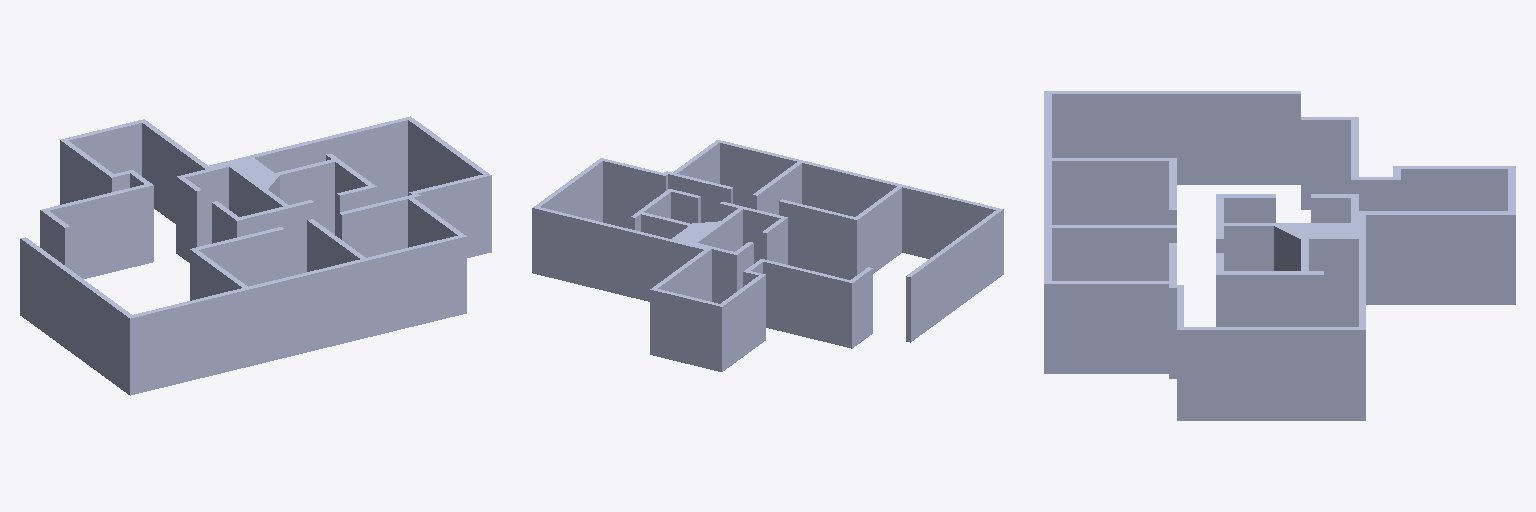
The robot description file, URDF, robot "willie_home":
<robot
  name="willie_home">
  <link
    name="willie_home">
    <inertial>
      <origin
        xyz="4.478788989465 -1.05169237906254 1"
        rpy="0 0 0" />
      <mass
        value="20484.6141552682" />
      <inertia
        ixx="149494.210167545"
        ixy="15246.5416334673"
        ixz="-1.87459426227887E-11"
        iyy="191341.862694034"
        iyz="-6.55783151809492E-12"
        izz="327179.663424733" />
    </inertial>
    <visual>
      <origin
        xyz="0 0 0"
        rpy="0 0 0" />
      <geometry>
        <mesh
          filename="package://iceira_gazebo/meshes/willie_home.STL" />
      </geometry>
      <material
        name="">
        <color
          rgba="0.792156862745098 0.819607843137255 0.933333333333333 1" />
      </material>
    </visual>
    <collision>
      <origin
        xyz="0 0 0"
        rpy="0 0 0" />
      <geometry>
        <mesh
          filename="package://iceira_gazebo/meshes/willie_home.STL" />
      </geometry>
    </collision>
  </link>
</robot>

--- What the picture shows (computed from the rendered views, not written in the file) ---
The picture shows the robot from 3 angles, left to right: view 1: azimuth 30°, elevation 25°; view 2: azimuth 150°, elevation 25°; view 3: azimuth 270°, elevation 25°; orthographic projection.
Model willie_home with 1 links and 0 joints (none), rooted at willie_home, posed all joints at 0.
Visible links, largest first — view 1: willie_home; view 2: willie_home; view 3: willie_home.
Boxes of the visible links, left/top/right/bottom form: willie_home: left=20, top=116, right=491, bottom=395; willie_home: left=532, top=140, right=1003, bottom=371; willie_home: left=1044, top=91, right=1515, bottom=420.
Bounding box of the posed robot: 11.35 × 9.45 × 2 m (x, y, z).
1 mesh visuals loaded from 1 distinct referenced files (1 binary STL).
